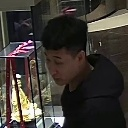head: (42, 42, 84, 84)
